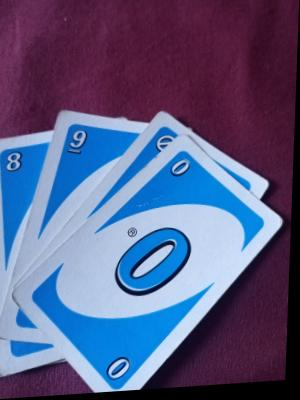num_0: (101, 351, 136, 386), (168, 160, 194, 183)
num_8: (4, 149, 27, 174)
num_9: (69, 126, 89, 158)
